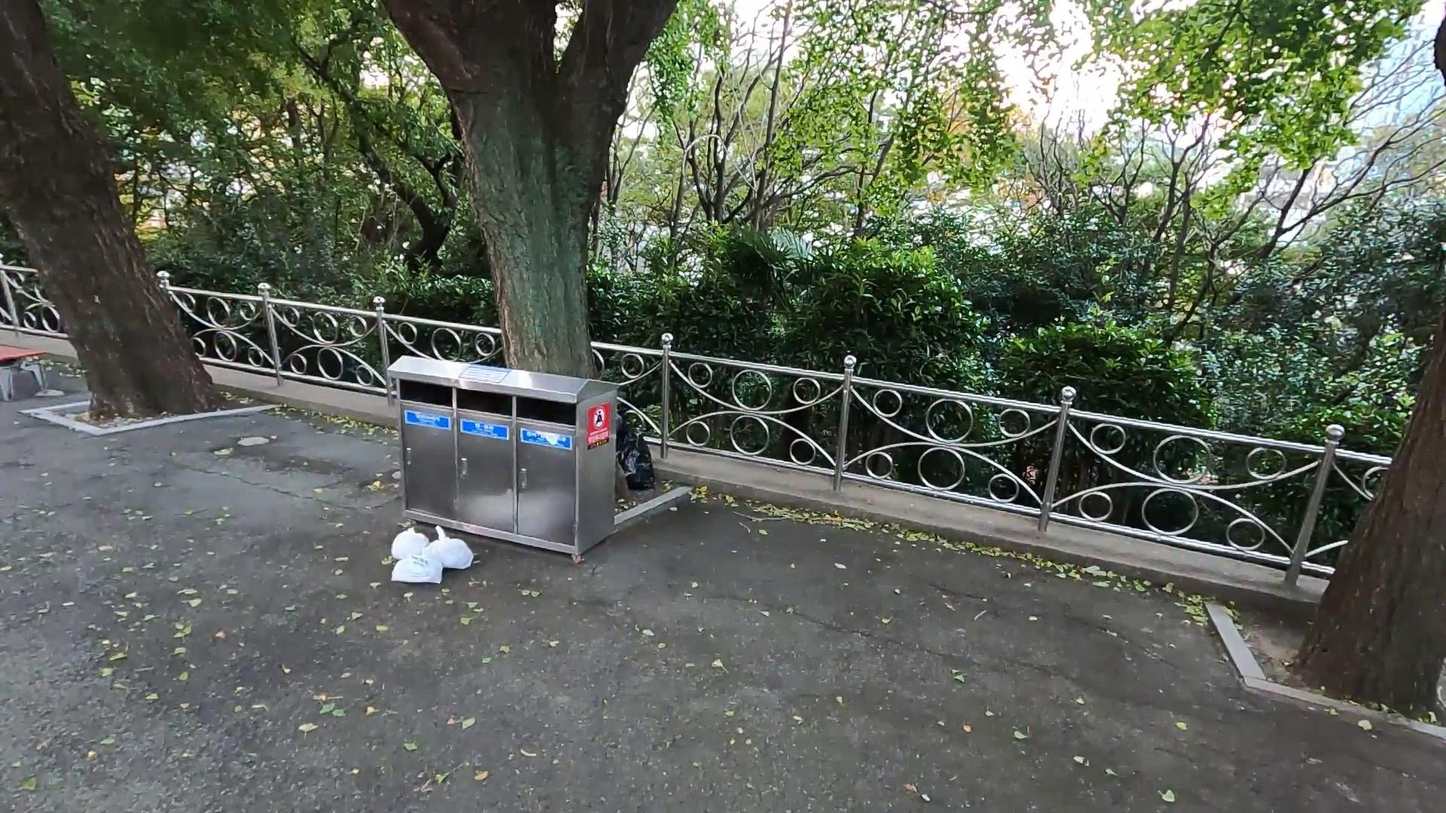trash: (621, 416, 657, 498), (417, 523, 477, 571), (391, 546, 447, 587), (387, 526, 434, 565)
